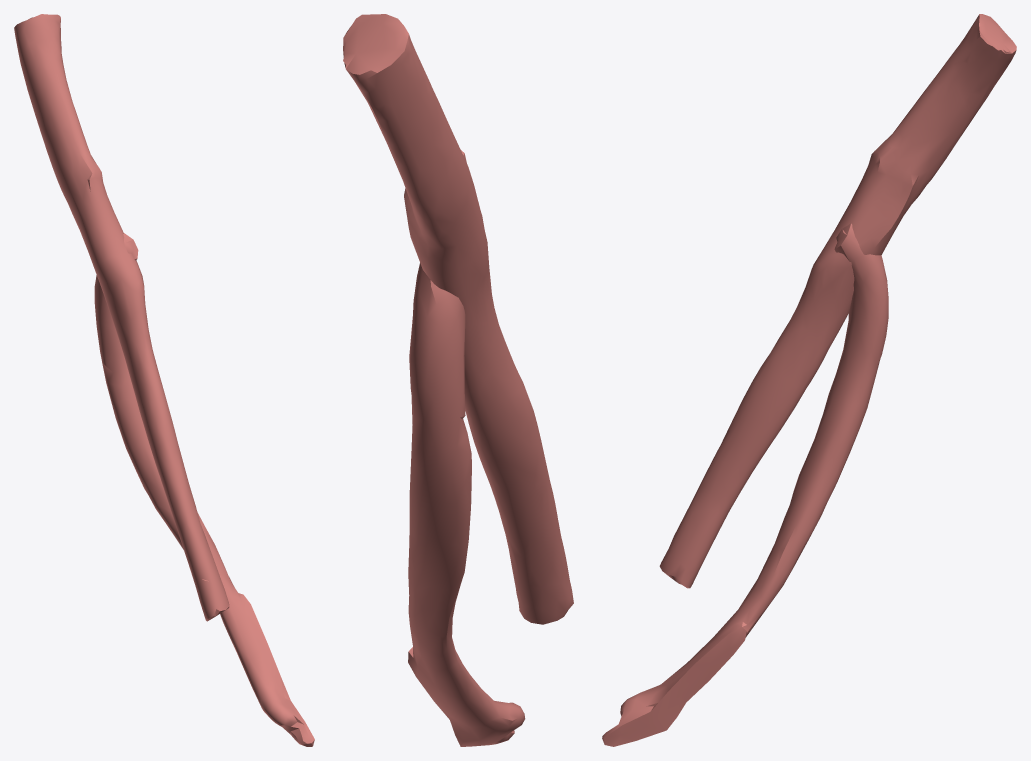
File: fma39614_mm2032m.glb
The picture shows the model from 3 angles, left to right: view 1: azimuth 30°, elevation 25°; view 2: azimuth 150°, elevation 25°; view 3: azimuth 270°, elevation 25°; orthographic projection. The views are drawn at different scales.
Visible parts, largest first — view 1: FMA39614_MM2032M; view 2: FMA39614_MM2032M; view 3: FMA39614_MM2032M.
Boxes of the visible parts, bbox=[...] form: FMA39614_MM2032M: bbox=[14, 14, 314, 746]; FMA39614_MM2032M: bbox=[343, 14, 573, 746]; FMA39614_MM2032M: bbox=[602, 14, 1016, 746].
Bounding box in the file's own units: 0.00993 × 0.0501 × 0.0277.
